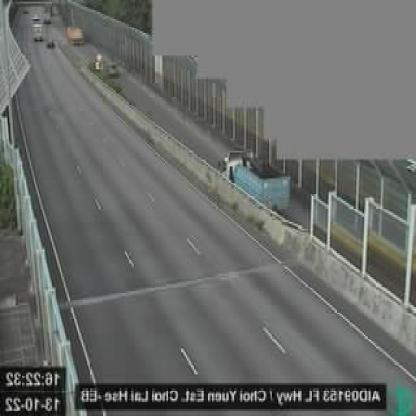Car: (46, 37, 56, 48)
Truck: (216, 149, 292, 221)
